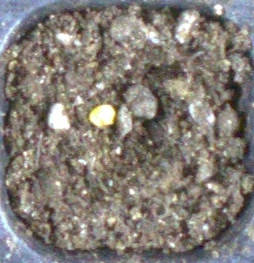pepper seed: (30, 41, 146, 168)
